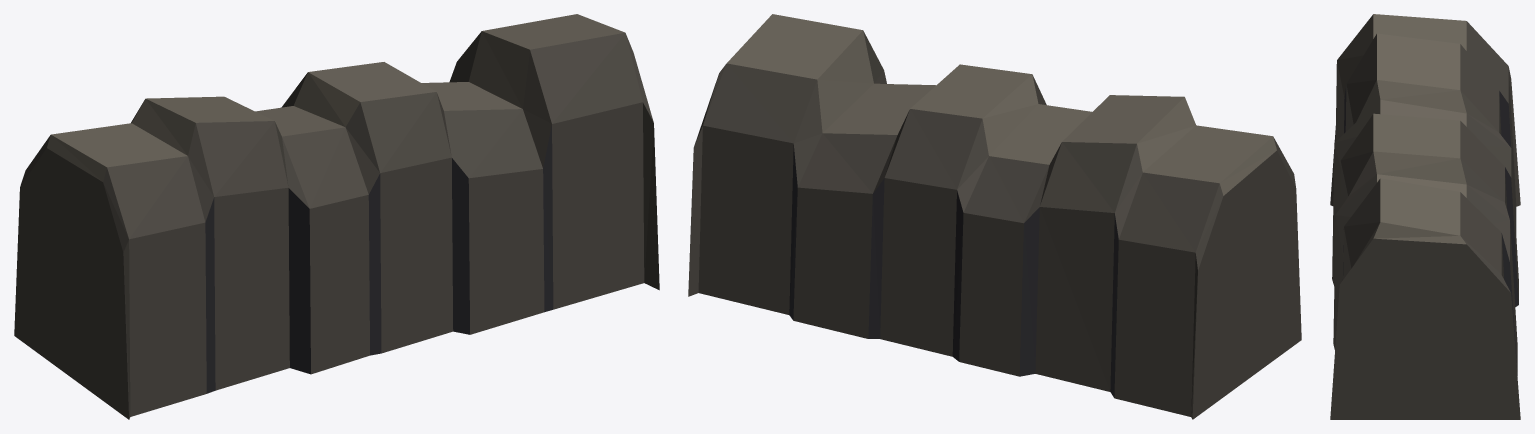
Rendered from SM_Cliff_A.fbx.
3 renders of one model, left to right at view 1: azimuth 30°, elevation 25°; view 2: azimuth 150°, elevation 25°; view 3: azimuth 270°, elevation 25°, orthographic. The views are drawn at different scales.
Visible parts, largest first — view 1: SM_Cliff_A; view 2: SM_Cliff_A; view 3: SM_Cliff_A.
Part boxes in pixels (x1,y1,x2,y2): SM_Cliff_A: (14, 14, 659, 419); SM_Cliff_A: (688, 14, 1301, 419); SM_Cliff_A: (1330, 14, 1520, 419).
Size of the model in its own units: 8 by 3.65 by 3.
